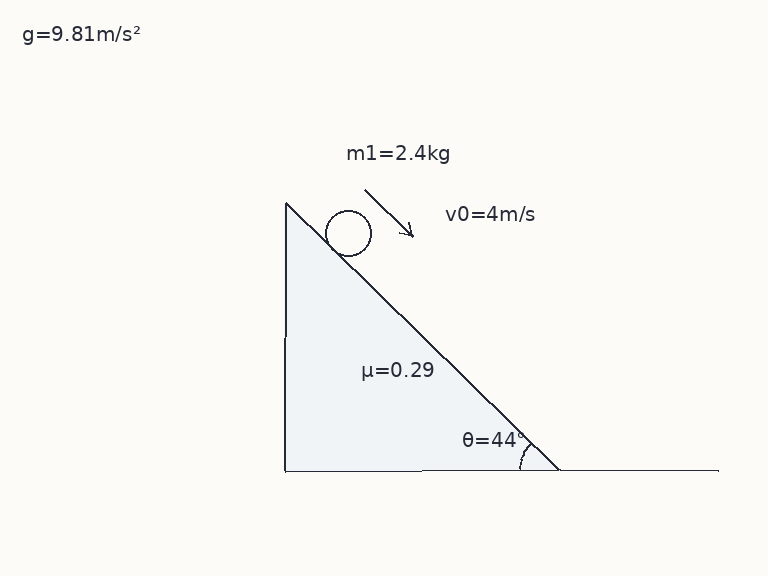ball: (323, 208, 373, 258)
ramp: (282, 202, 562, 472)
